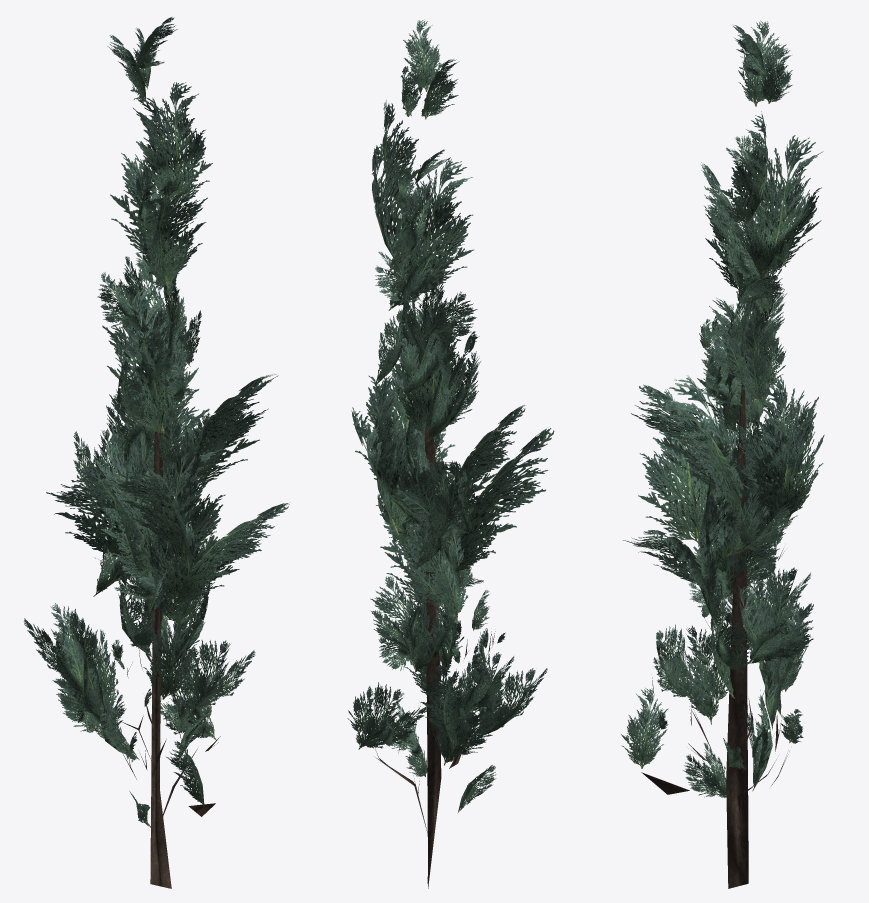
The model's file is tree_cypress.gltf.
3 renders of one model, left to right at view 1: azimuth 30°, elevation 25°; view 2: azimuth 150°, elevation 25°; view 3: azimuth 270°, elevation 25°, orthographic.
Visible parts, largest first — view 1: tree_cypress; view 2: tree_cypress; view 3: tree_cypress.
Boxes of the visible parts, x1,y1,x2,y2 form: tree_cypress: (23,17,289,888); tree_cypress: (347,19,554,888); tree_cypress: (621,20,824,888).
Size of the model in its own units: 3.63 by 11.8 by 3.14.
2 materials, 2 textured.
